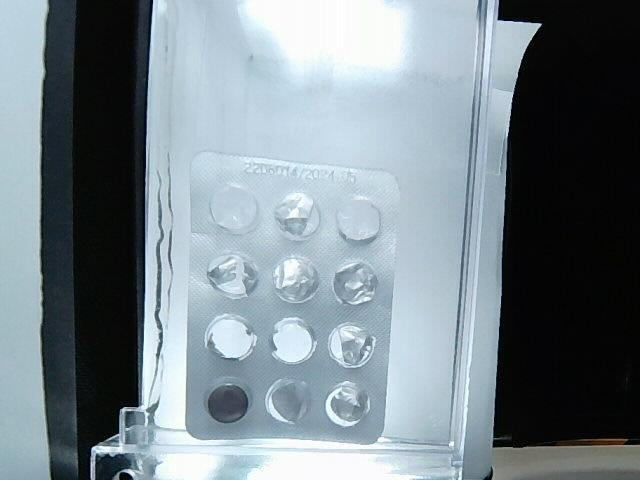Light Front: (188, 153, 399, 443)
No Pill Front: (210, 185, 260, 233), (205, 314, 257, 359), (206, 254, 258, 298), (274, 191, 320, 240), (274, 255, 319, 303), (270, 318, 316, 364), (325, 381, 370, 426), (336, 195, 379, 241), (330, 324, 376, 367), (333, 261, 378, 304), (265, 379, 308, 423)
Pill Front: (208, 384, 249, 422)
